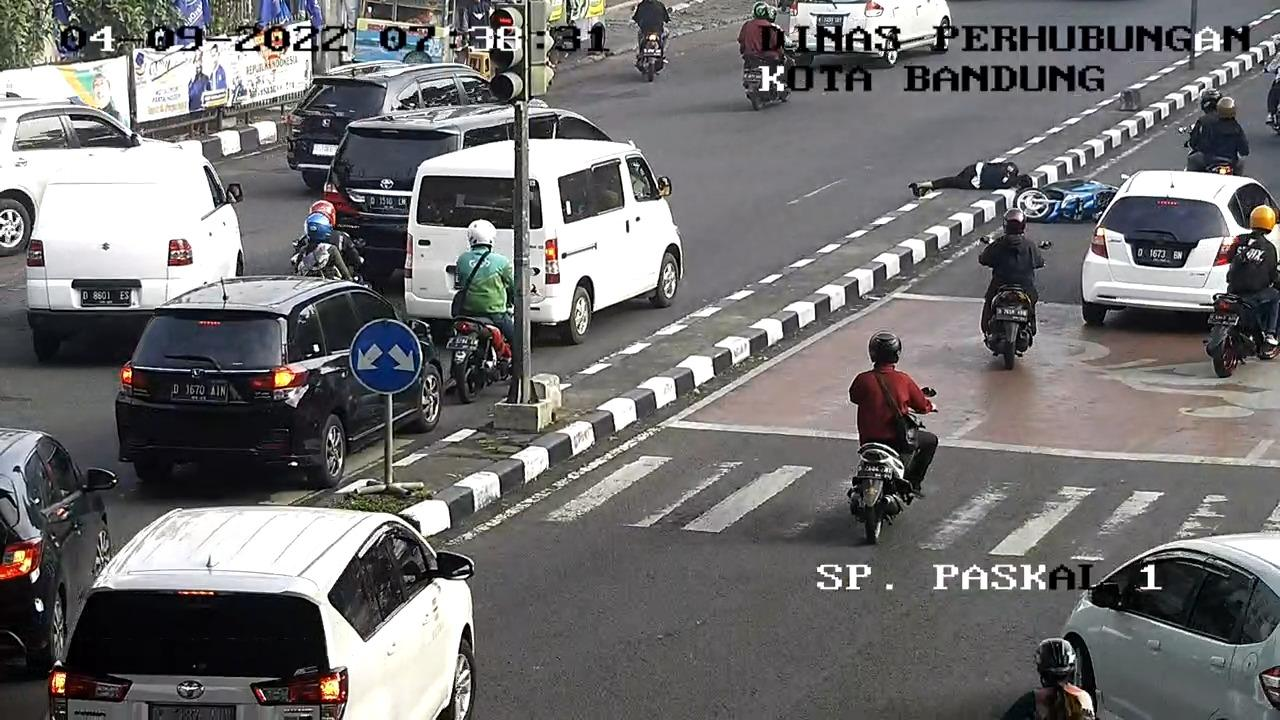accident: (899, 147, 1038, 203)
